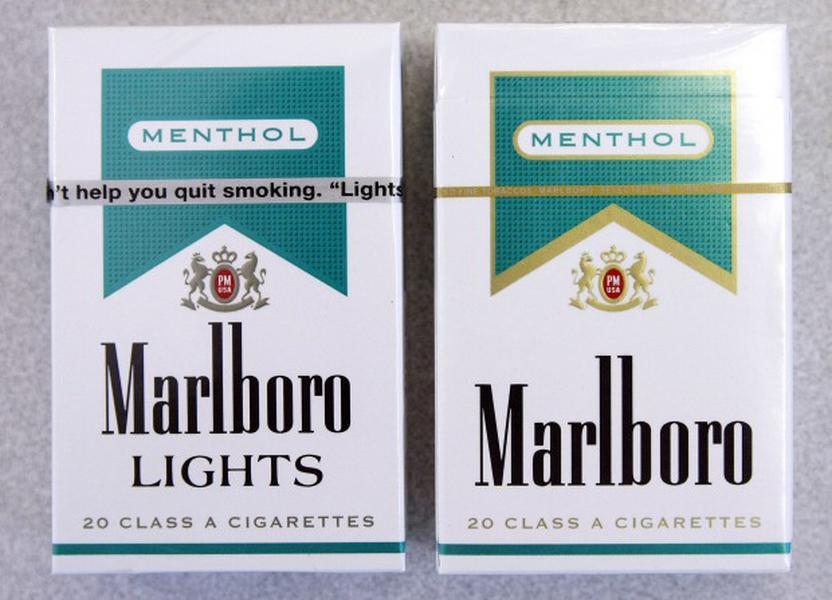marlboro_mentol: (47, 28, 405, 572), (437, 28, 789, 574)
